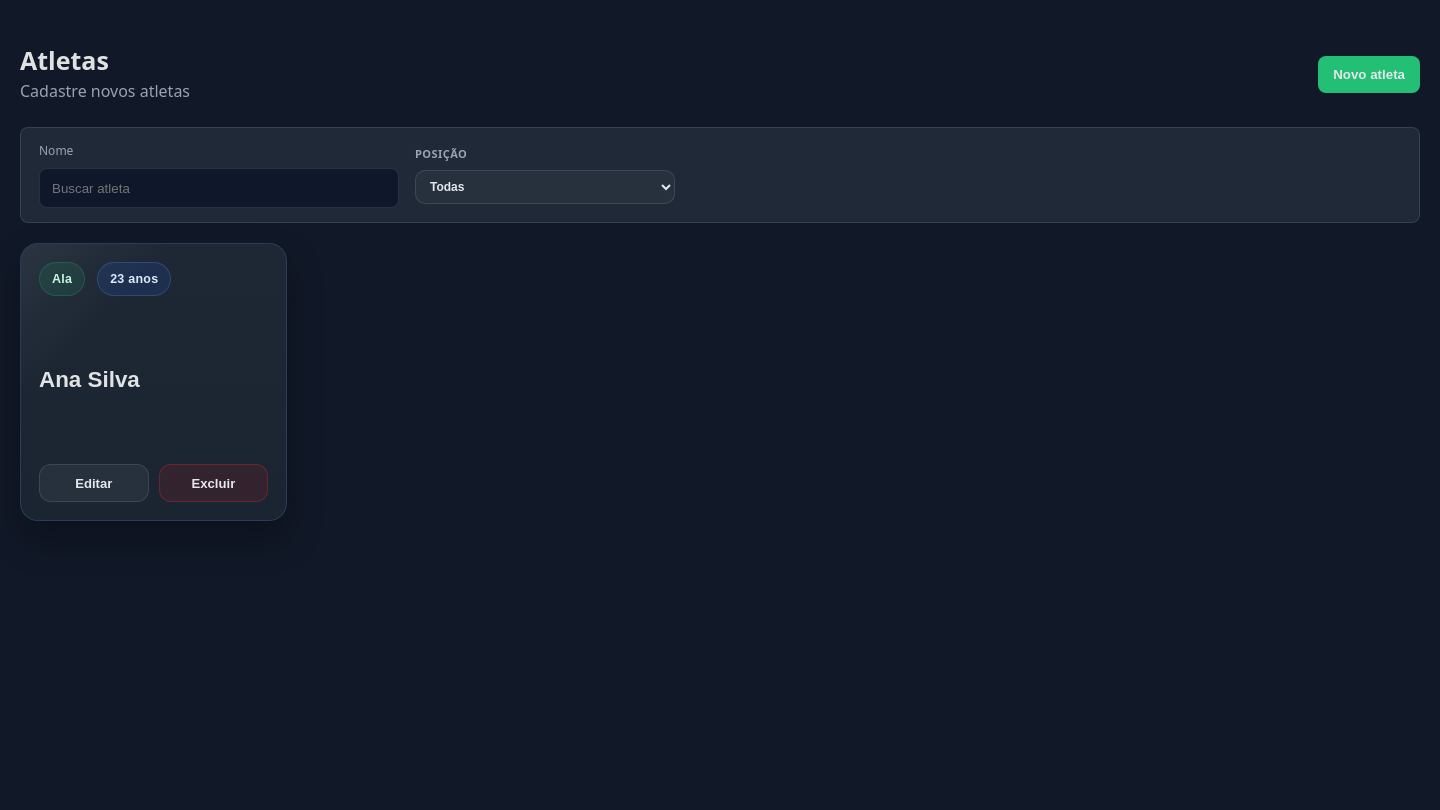
Test: AthleteRegistrationScreen editing › reports only the list refresh failure after a successful create
Click the button "Novo atleta": point(1369, 74) [1318,56,1420,92]
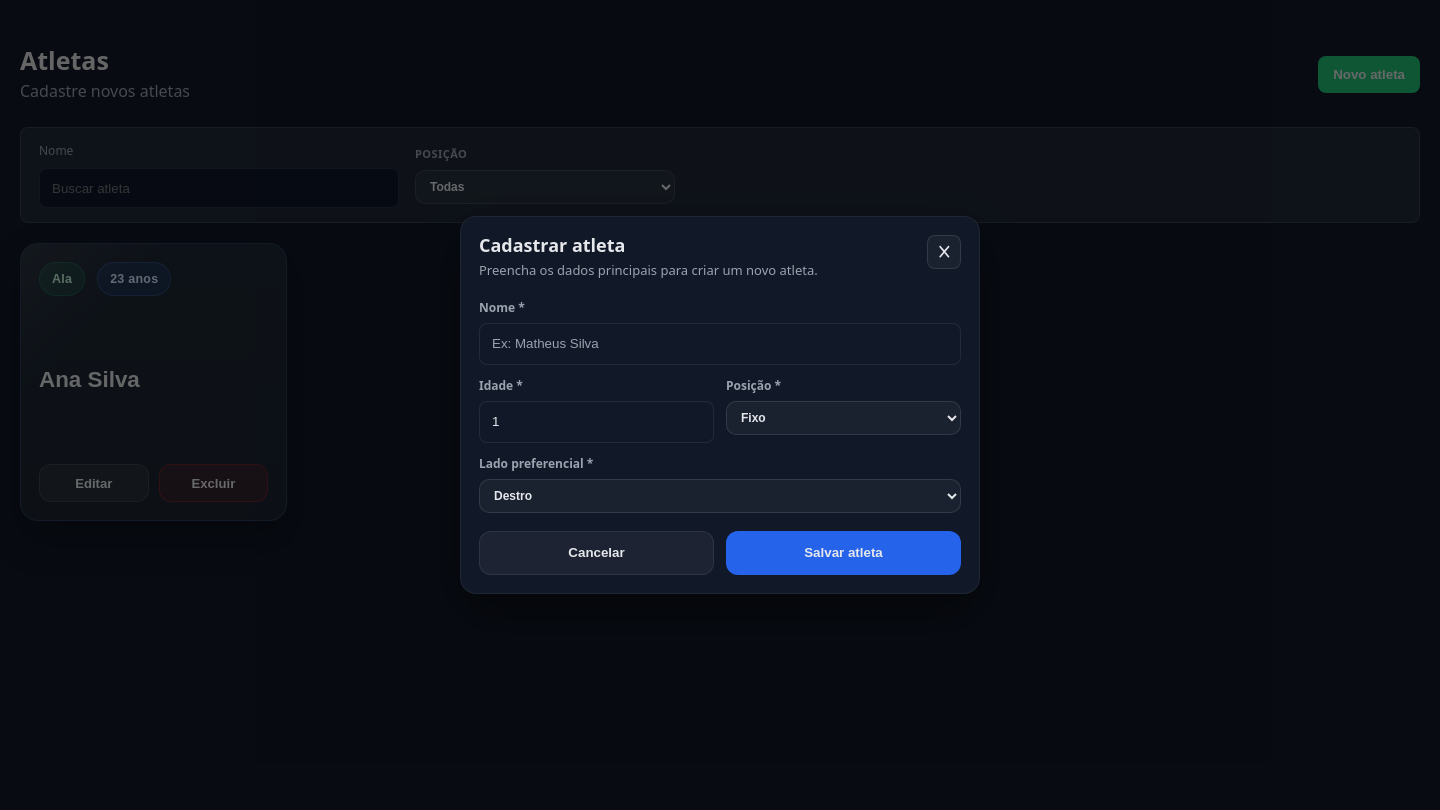
In the field labelled "Nome *": point(720, 344) [479,322,961,364], type "Nova atleta"
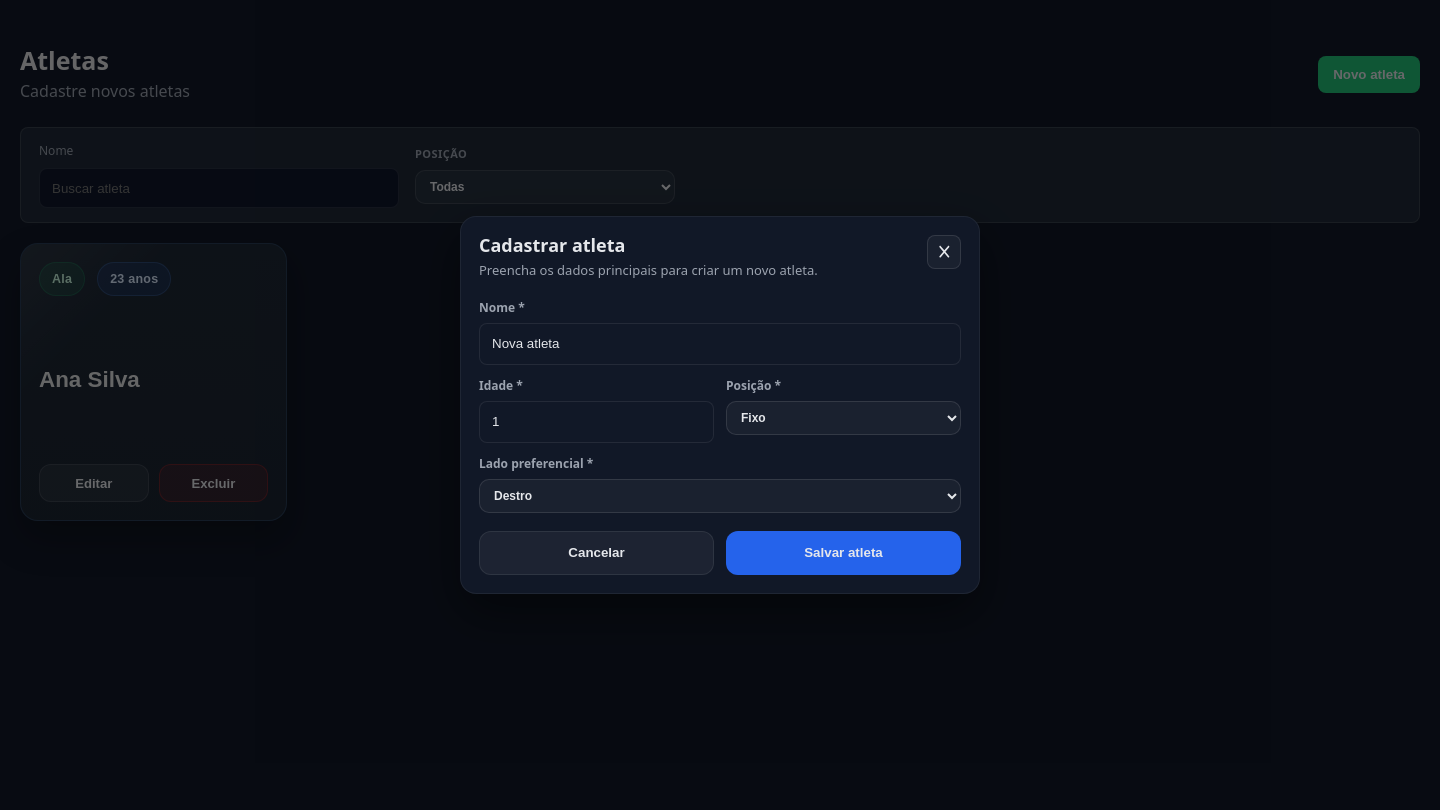
Click the button "Salvar atleta": point(844, 552) [726,530,961,574]
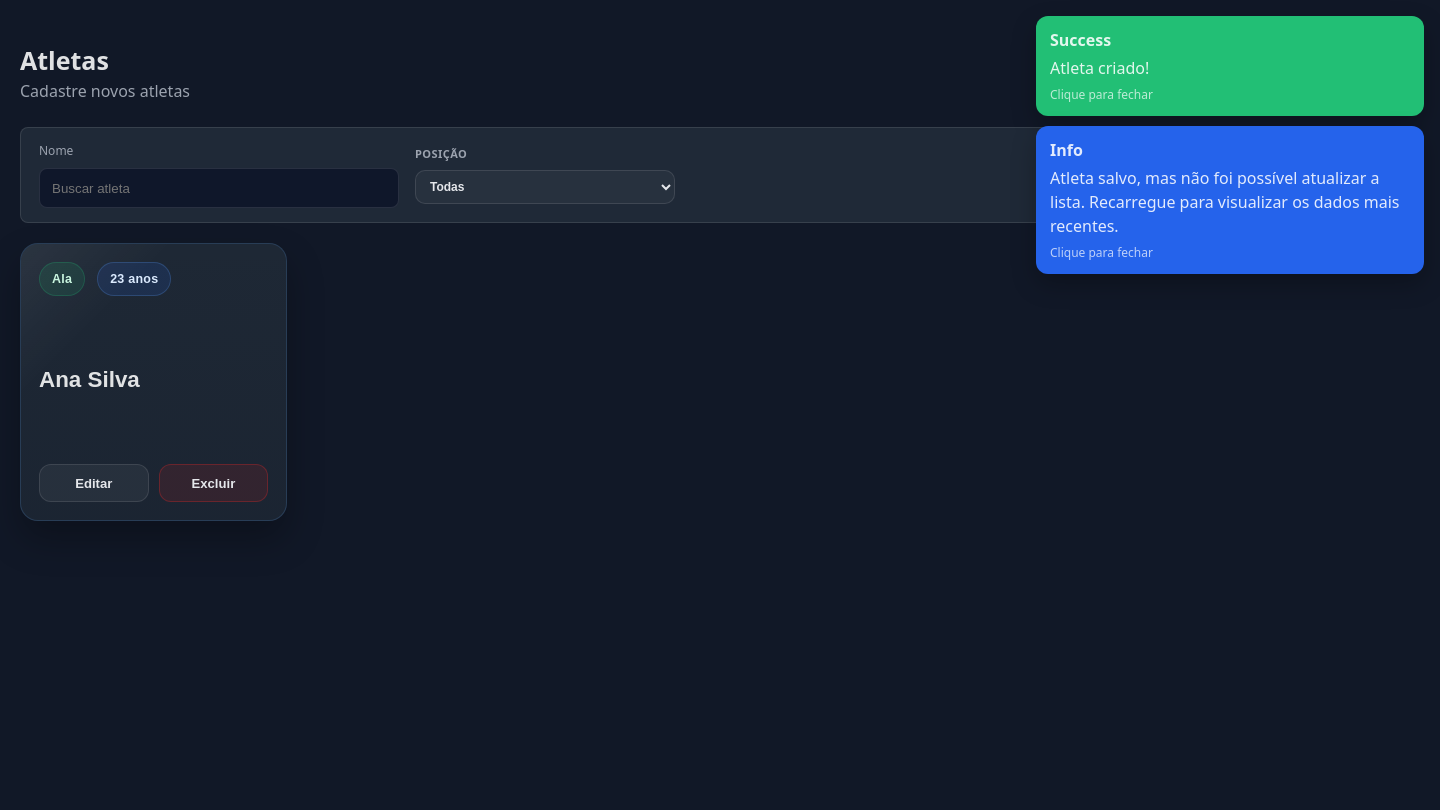
Check: the text "Atleta criado!" is shown, box [1050,57,1149,79]
Check: the text "Atleta salvo, mas não foi possível atualizar a lista" is shown, box [1050,167,1400,237]
Check: the heading "Cadastrar atleta" is gone
